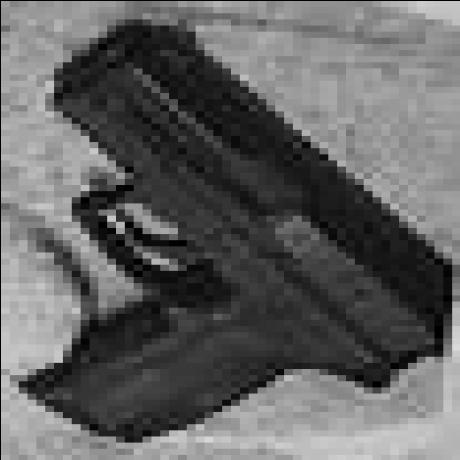weapon: (0, 19, 458, 446)
